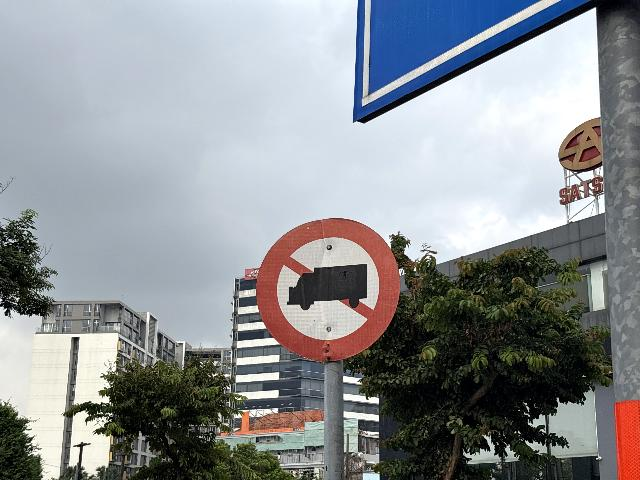cam-xe-tai: (257, 217, 400, 363)
